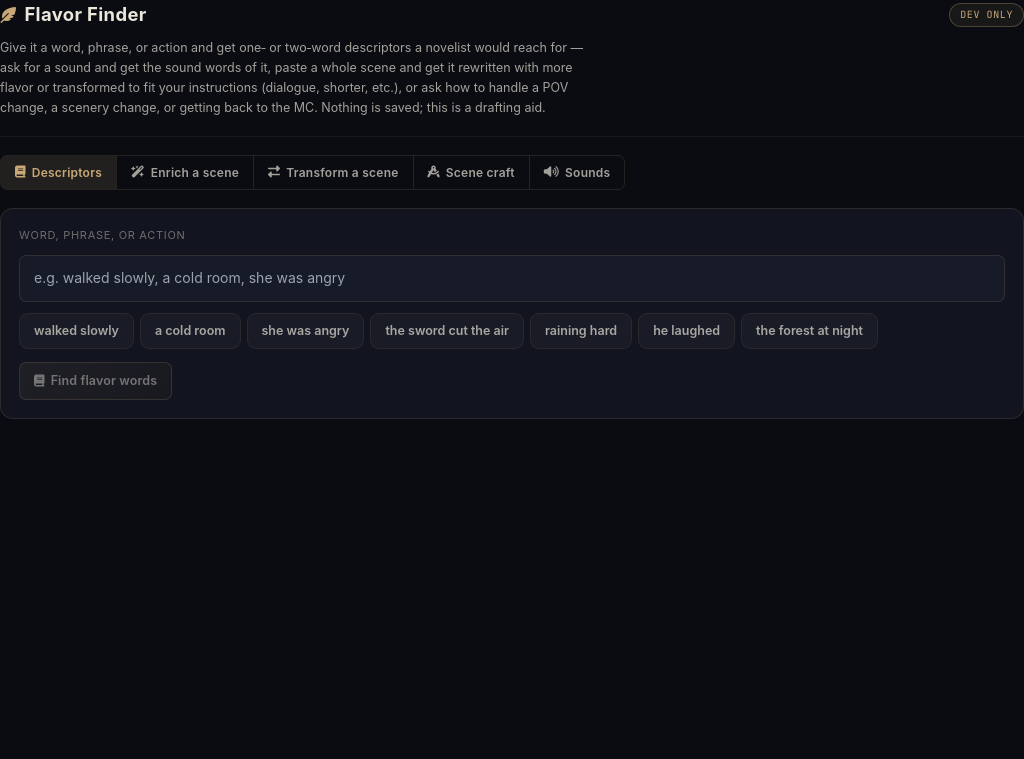
Test: FlavorFinder — craft response without descriptors › renders a craft result that has no descriptors array
Click the button "Scene craft".
click(471, 172)  # box [413,156,529,189]
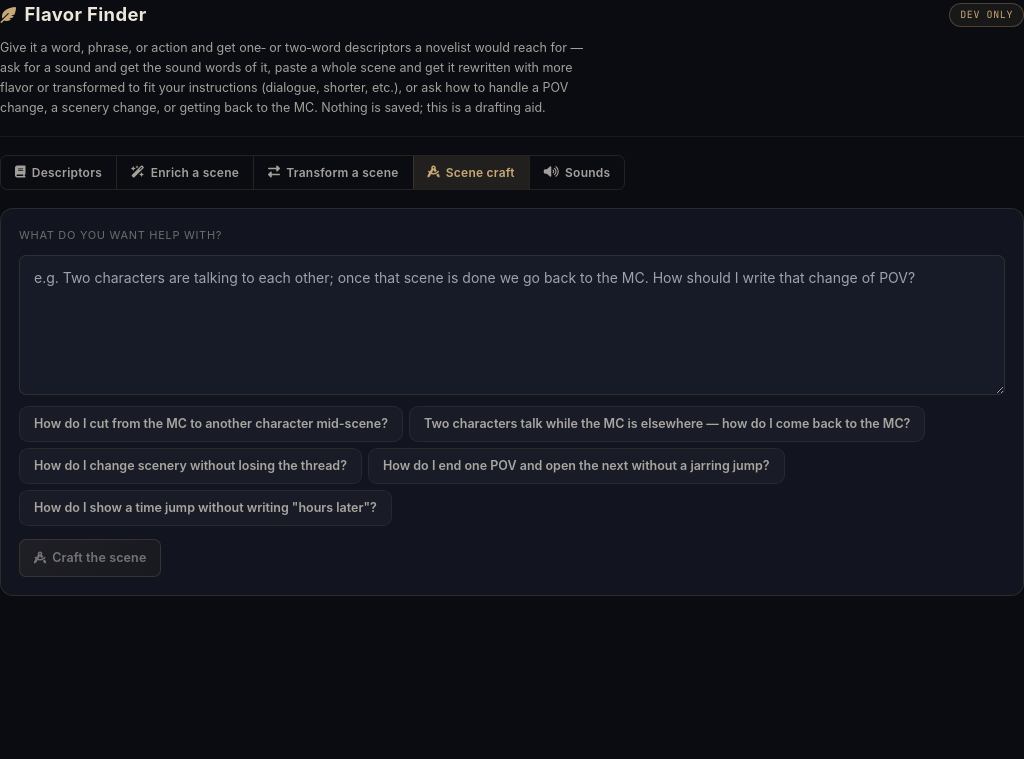
Replace the text in the text box labelled "What do you want help with?" with "how do I get back to the MC?" at (512, 325), box [19,255,1005,395]
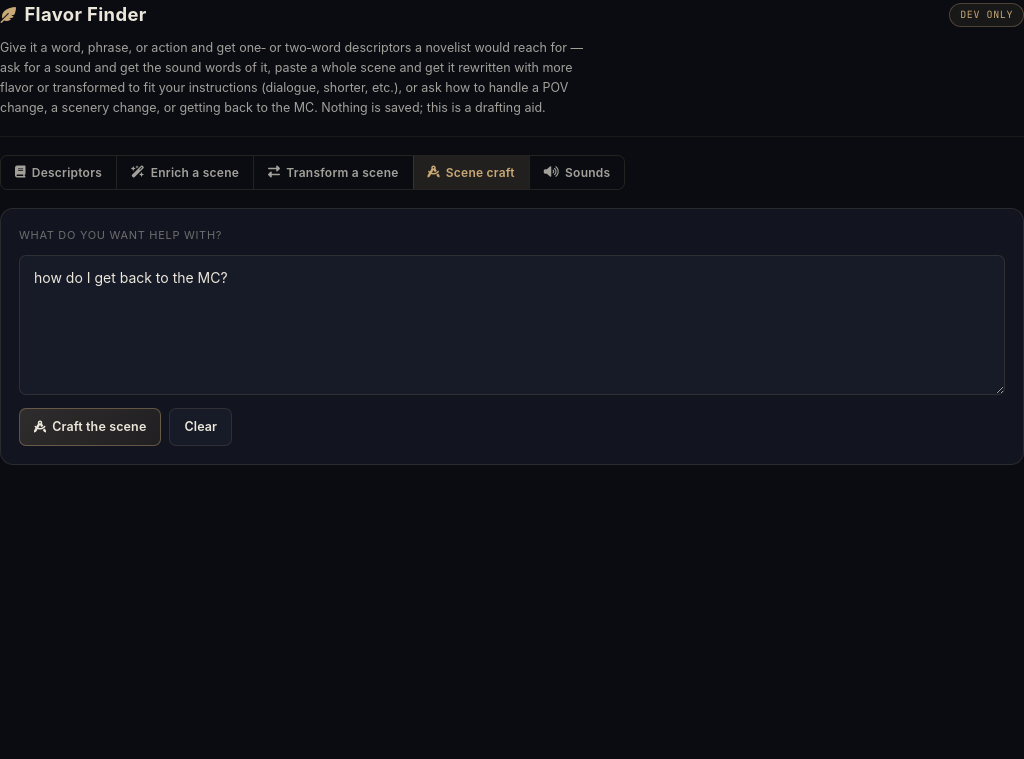
Click the button "Craft the scene".
click(90, 427)  # box [19,408,161,446]
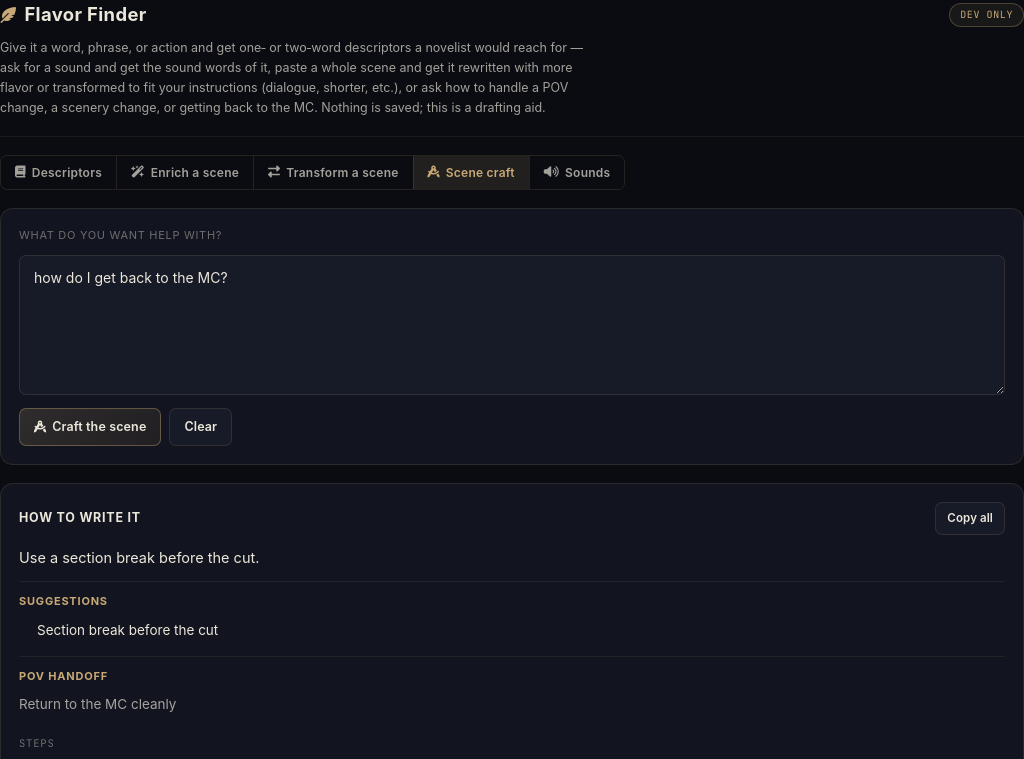
Now the text "Use a section break before the cut." is shown, box [19,549,259,566]
Now the heading "POV handoff" is shown, box [19,669,108,683]
Now the list item "Section break before the cut" is shown, box [37,622,218,638]
